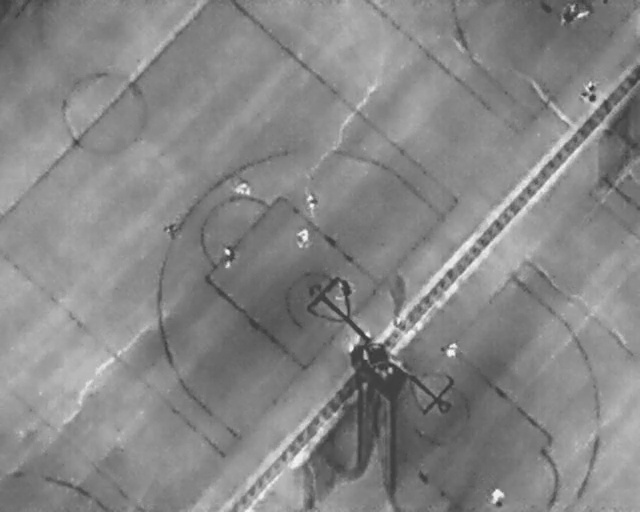Person: (581, 79, 597, 105), (235, 178, 252, 200), (294, 226, 309, 250), (441, 338, 457, 360), (491, 486, 505, 511), (562, 2, 576, 26), (306, 192, 317, 217), (223, 245, 234, 270)
